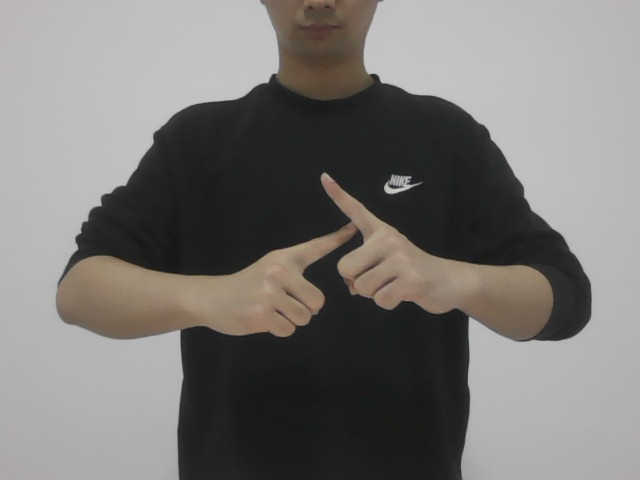peason: (218, 163, 424, 345)
